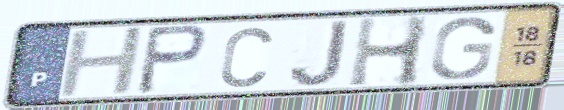C: (217, 24, 276, 90)
G: (426, 15, 498, 82)
H: (55, 24, 149, 101), (344, 14, 434, 90)
J: (286, 18, 351, 89)
P: (132, 23, 210, 97)
